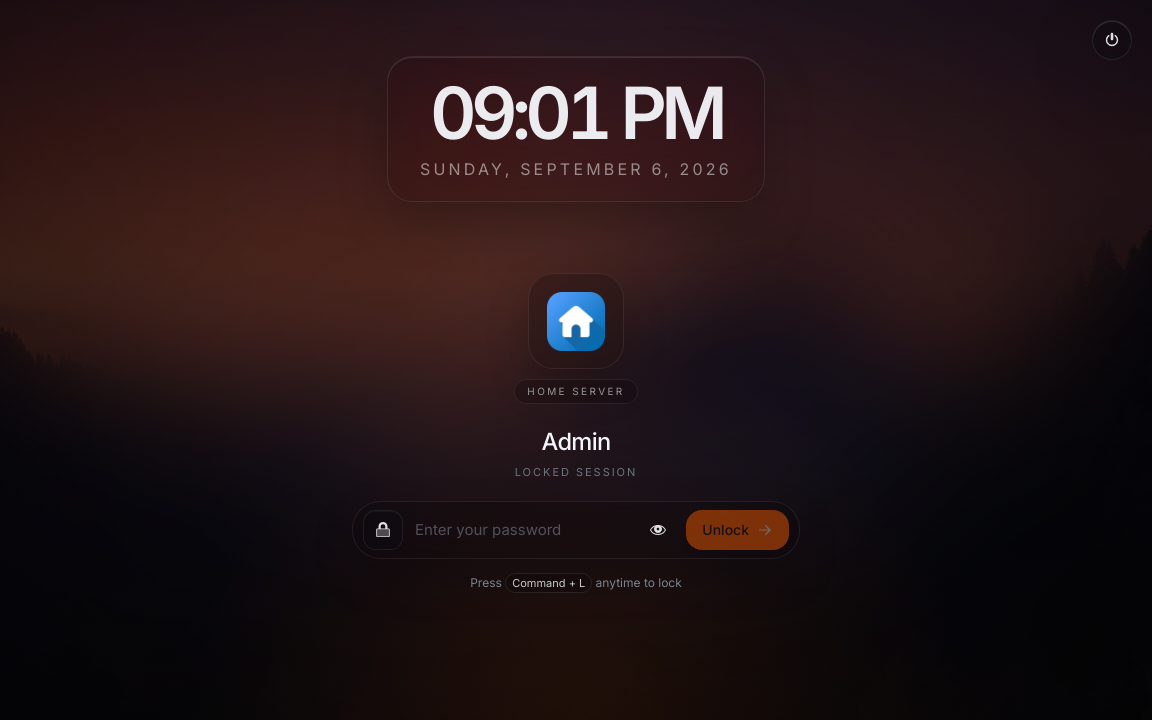
Test: LockScreen › shows unlock error message
The image size is (1152, 720).
Type "bad-pass" into the password field with placeholder "Enter your password".
click(521, 530); type("bad-pass")  # box [411, 510, 630, 550]
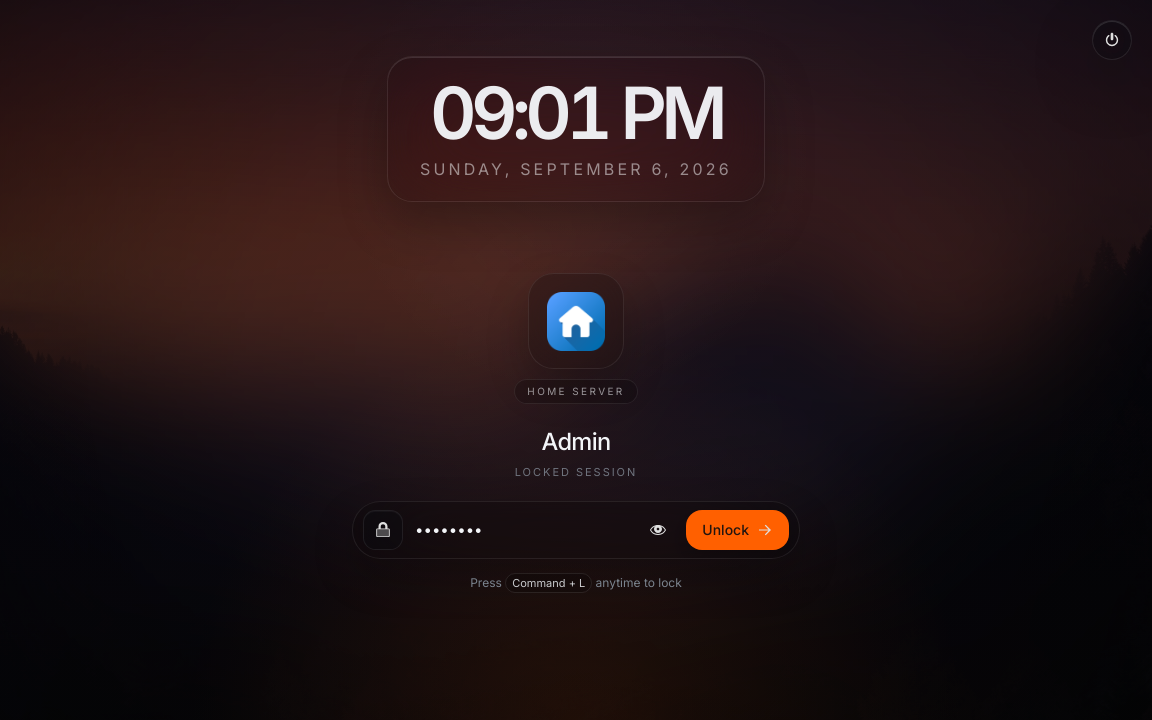
Submit the form from the button "Unlock", box [686, 510, 789, 550]
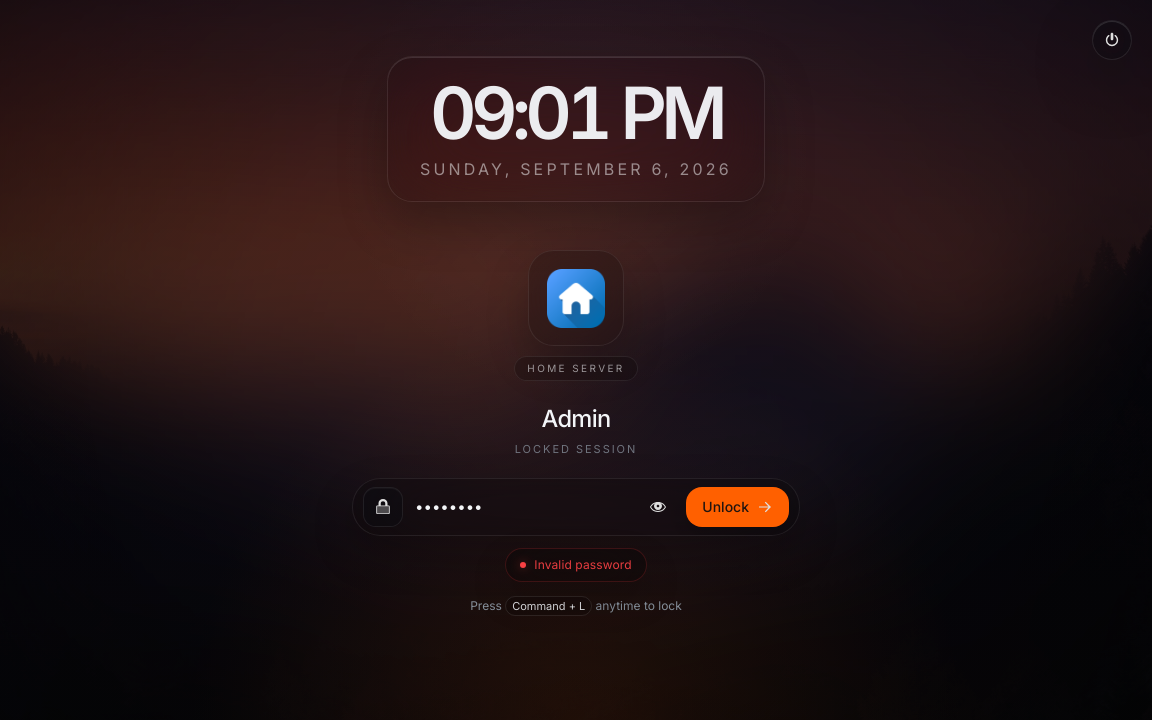
Expected: the text "Invalid password" is shown, [534, 556, 632, 572]
